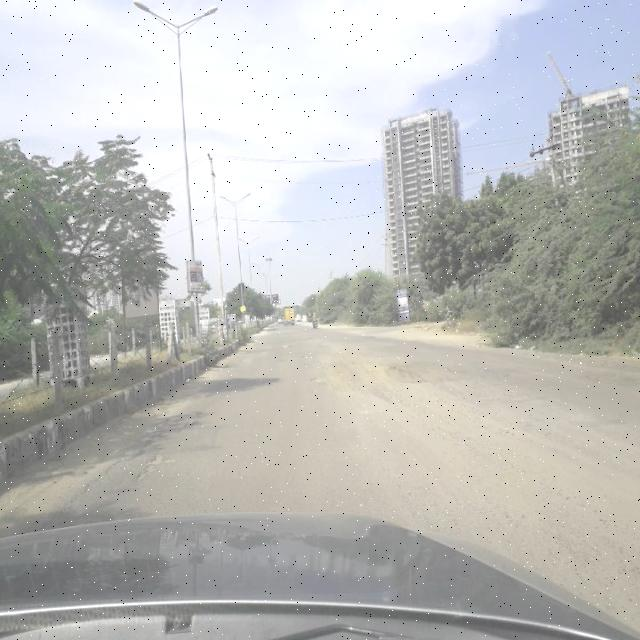D00: (51, 424, 172, 523)
D40: (297, 348, 486, 413), (138, 438, 166, 492)
